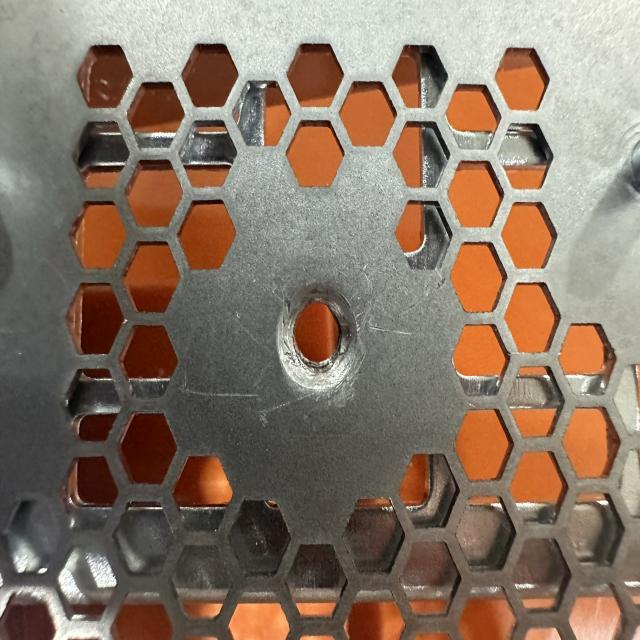Missing screw: (273, 266, 368, 396)
